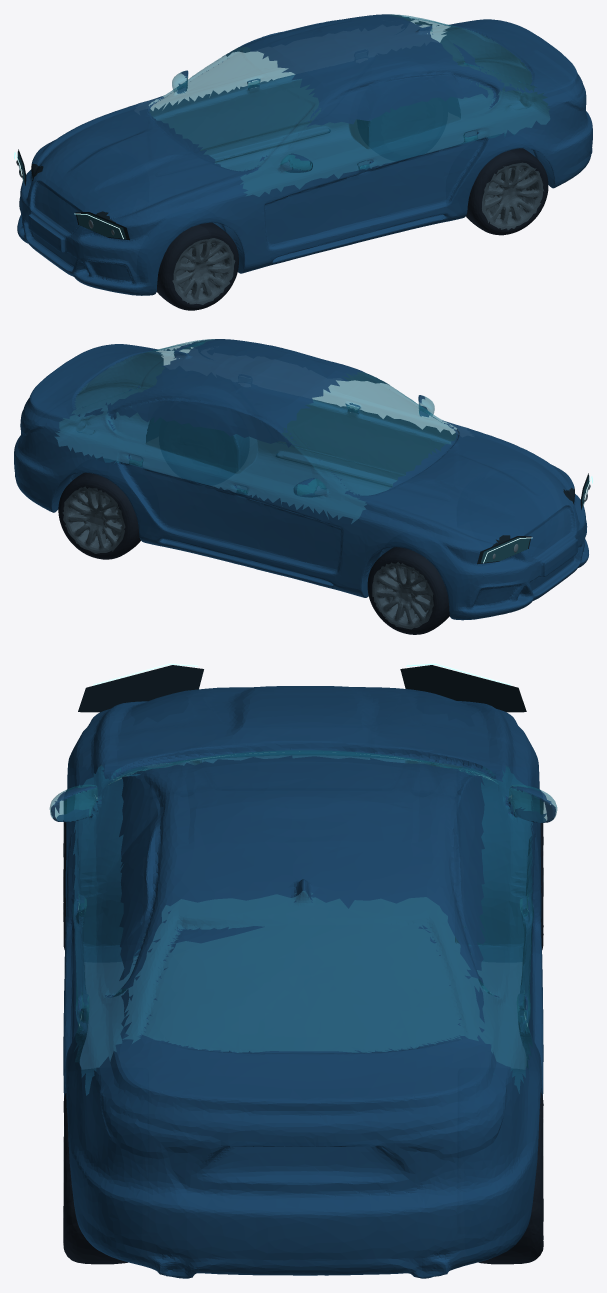
The model's file is meshy_sedan_holographic_v02.glb.
3 views of the same model, one above another, from view 1: azimuth 30°, elevation 25°; view 2: azimuth 150°, elevation 25°; view 3: azimuth 270°, elevation 25° (orthographic). The views are drawn at different scales.
Visible parts, largest first — view 1: Meshy_Sedan_Approved_Geometry, headlamp.-1.housing, headlamp.-1.lens; view 2: Meshy_Sedan_Approved_Geometry, headlamp.1.housing, headlamp.1.lens; view 3: Meshy_Sedan_Approved_Geometry, headlamp.-1.housing, headlamp.1.housing.
Boxes of the visible parts, <box> form: Meshy_Sedan_Approved_Geometry: <box>17,14,592,310</box>; headlamp.-1.housing: <box>75,212,129,240</box>; headlamp.-1.lens: <box>77,213,126,238</box>; Meshy_Sedan_Approved_Geometry: <box>14,339,588,634</box>; headlamp.1.housing: <box>477,536,531,564</box>; headlamp.1.lens: <box>481,537,529,562</box>; Meshy_Sedan_Approved_Geometry: <box>49,686,557,1278</box>; headlamp.-1.housing: <box>78,665,203,712</box>; headlamp.1.housing: <box>400,665,526,712</box>.
Bounding box in the file's own units: 1.9 × 0.6099 × 0.8026.
